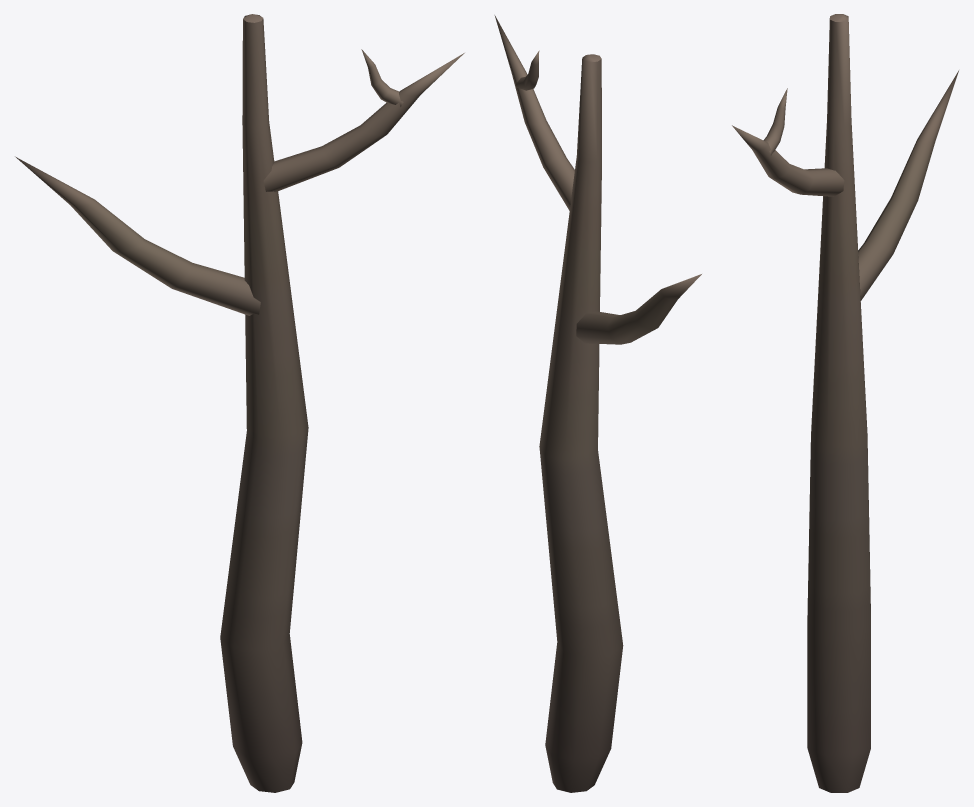
The model's file is kay-arvore-morta.gltf.
The picture shows the model from 3 angles, left to right: view 1: azimuth 30°, elevation 25°; view 2: azimuth 150°, elevation 25°; view 3: azimuth 270°, elevation 25°; orthographic projection. The views are drawn at different scales.
Visible parts, largest first — view 1: tree_dead_large; view 2: tree_dead_large; view 3: tree_dead_large.
Part boxes in pixels (x1=…): tree_dead_large: x1=15, y1=14, x2=464, y2=792; tree_dead_large: x1=494, y1=15, x2=701, y2=792; tree_dead_large: x1=732, y1=14, x2=958, y2=792.
Size of the model in its own units: 1.15 by 2.53 by 0.6884.
1 material, 1 textured.
